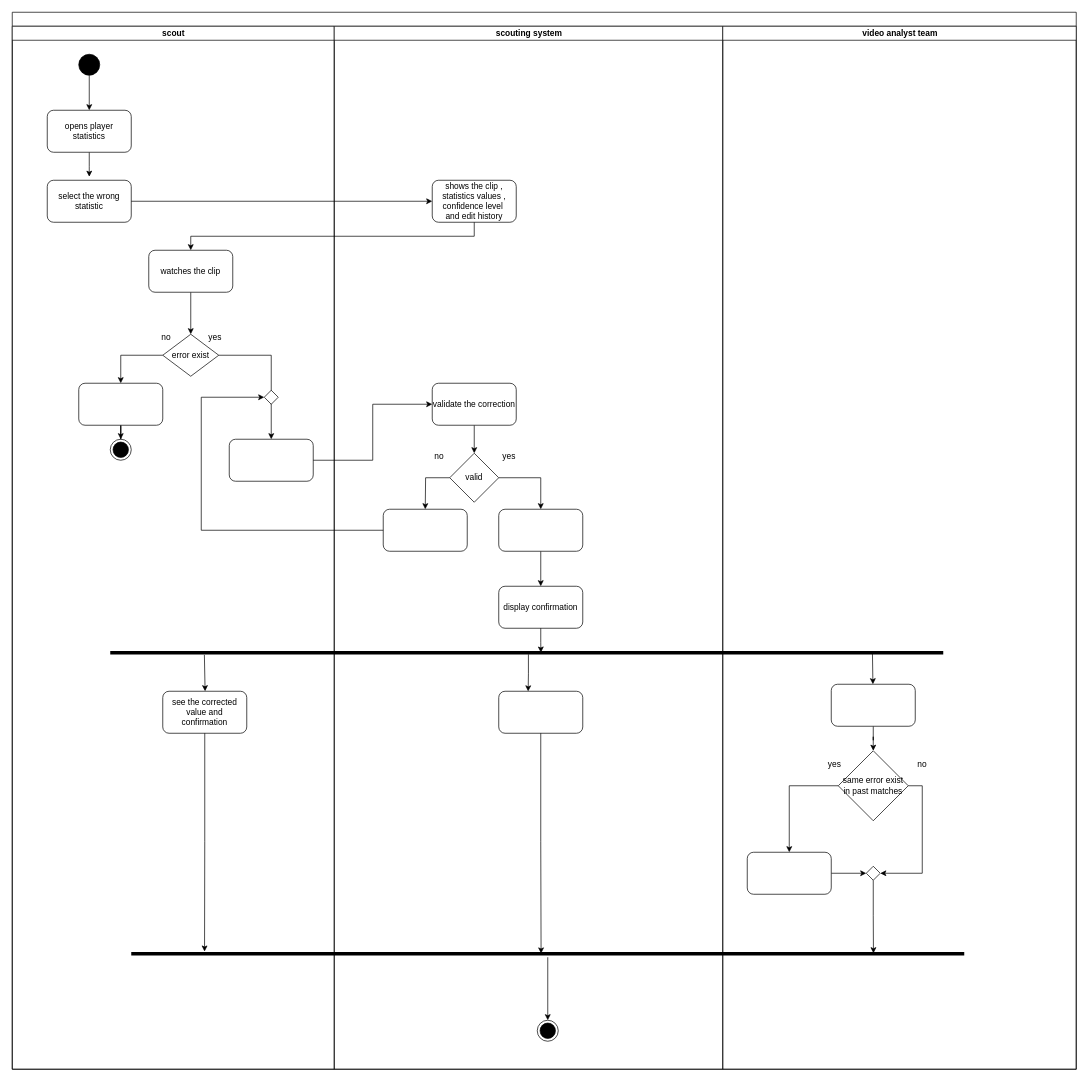
This 1089x1082 diagram has some shape labels left out. The centre of each missing label's shape, as x and y in pixels:
"cancel correction" goes at [120,404].
"change the confidence level" goes at [789,873].
"enter the correct vallue" goes at [271,460].
"review the correction of the video" goes at [873,705].
"show error" goes at [425,530].
"update player's statistics" goes at [540,712].
"update statistics value" goes at [540,530].
